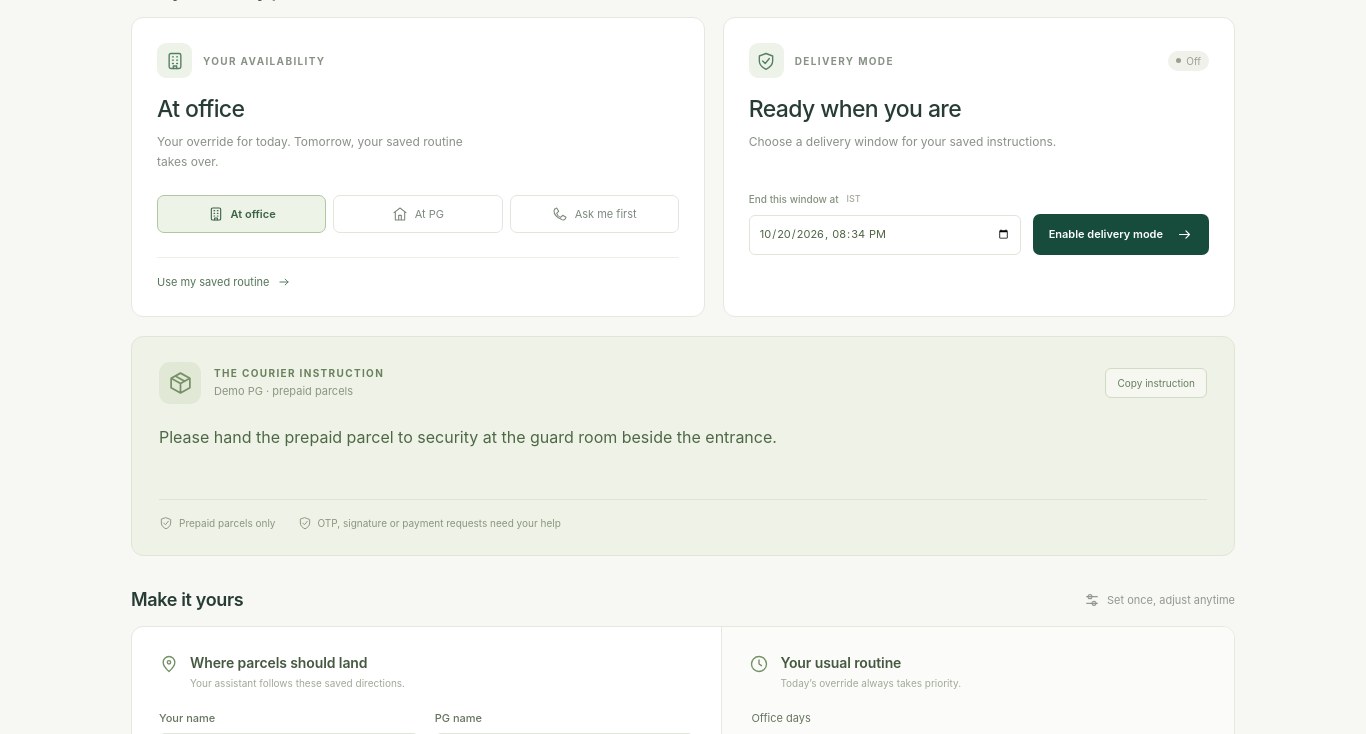
Test: dashboard interaction isolation › isolates clipboard feedback to the instruction preview
(page scrolled)
Click the button "Copy instruction" at (1156, 383), box [1106, 368, 1207, 398]
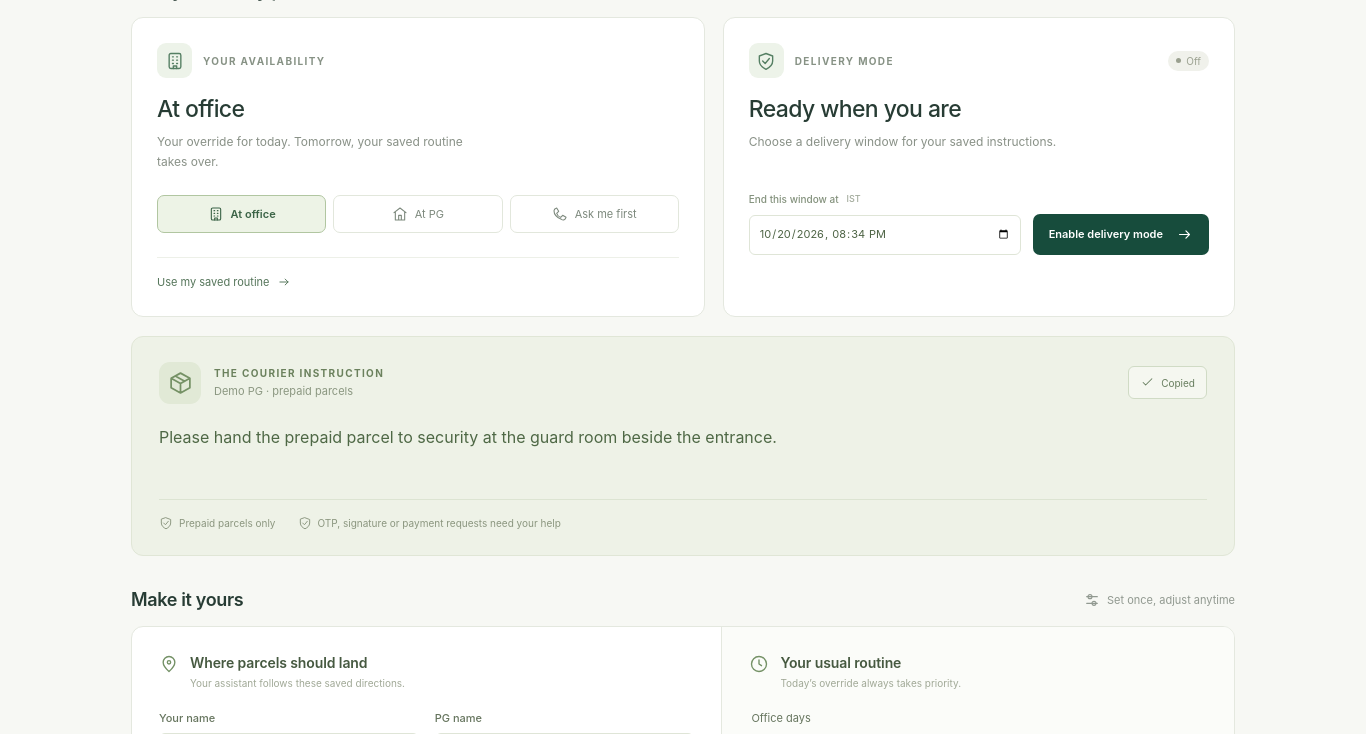
Expected: the button "Copied" is shown, [1128, 366, 1207, 399]
